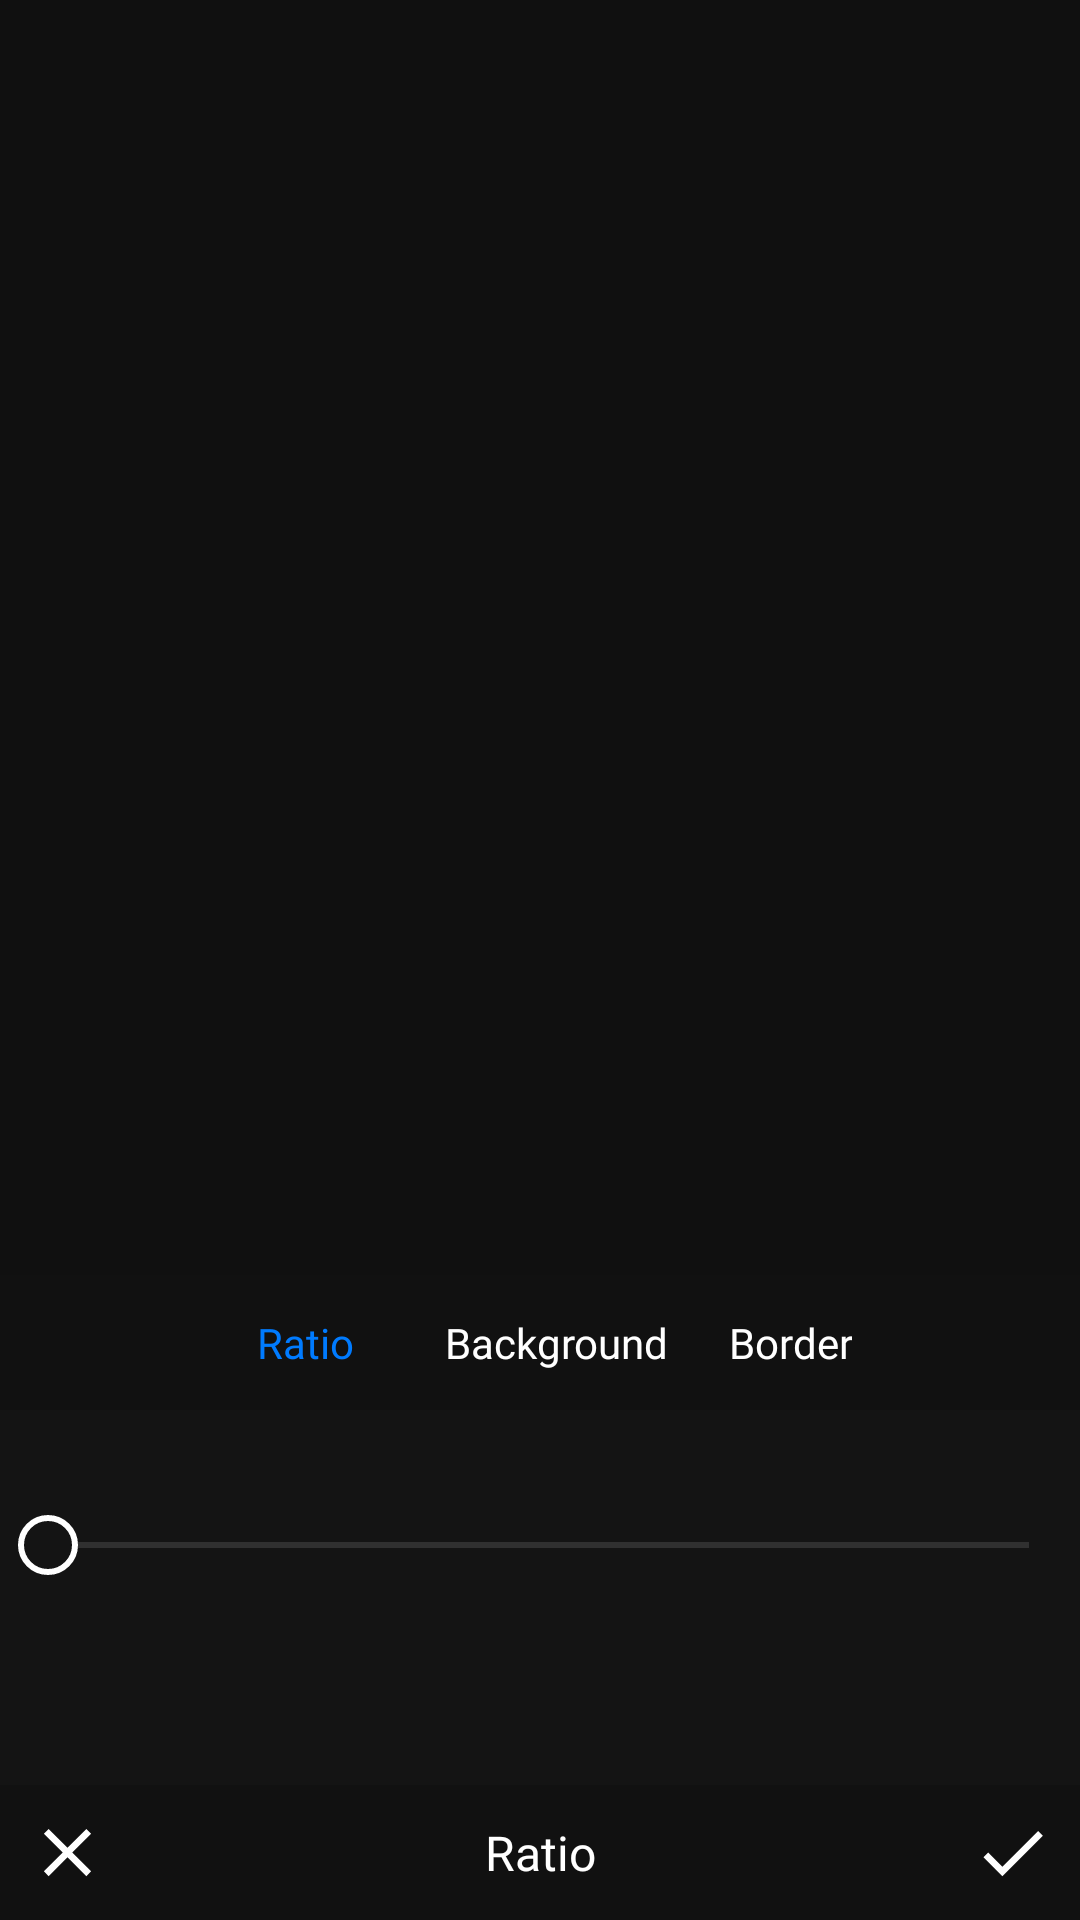

Named icons in this screenshot (1080px x 1920px) and their bounding boxes, (x1, y1, x2, y2):
close: (44, 1829, 91, 1876)
done: (983, 1831, 1043, 1876)
